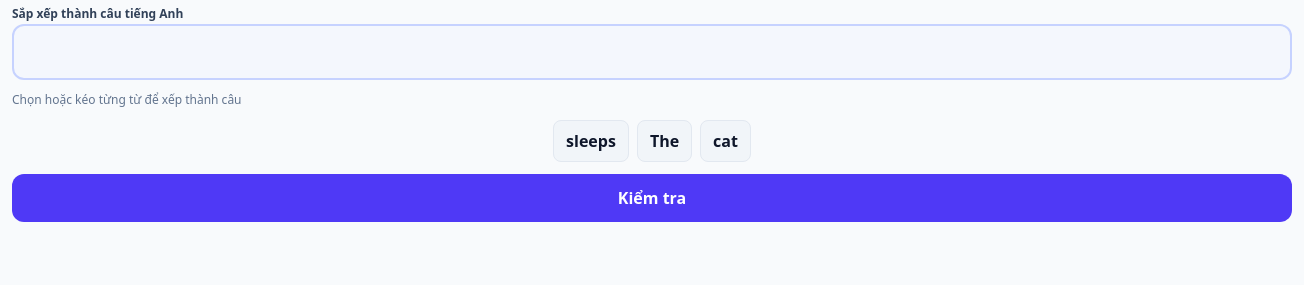
WordOrderQuestion › counts an incomplete arrangement as a wrong attempt instead of blocking the check
Click the button "The". click: click(664, 141)
box: [637, 120, 692, 162]
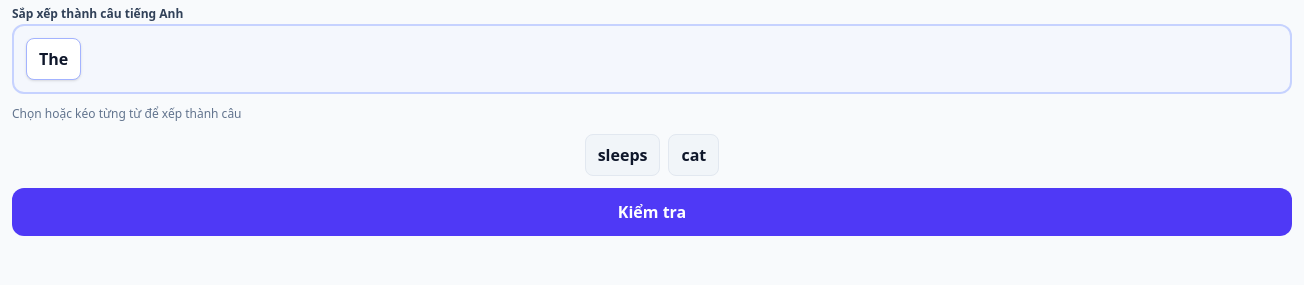
Click the button "Kiểm tra". click: click(652, 212)
box: [12, 188, 1292, 236]
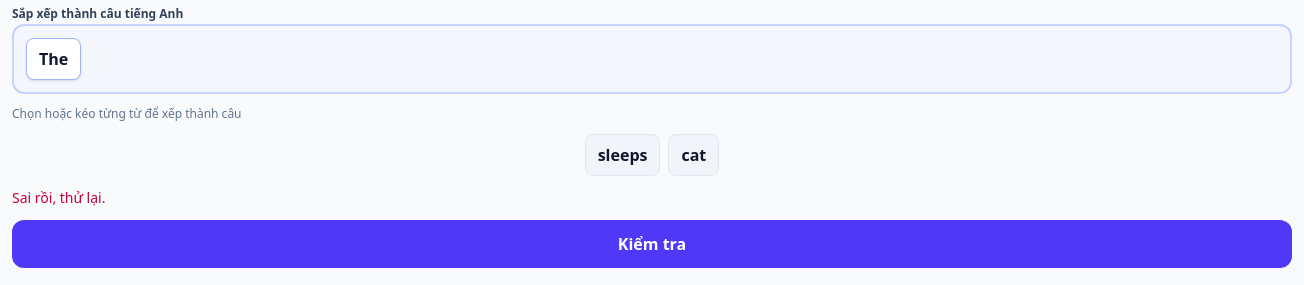
Expected: the text "Sai rồi, thử lại." is shown, [12, 188, 105, 207]
